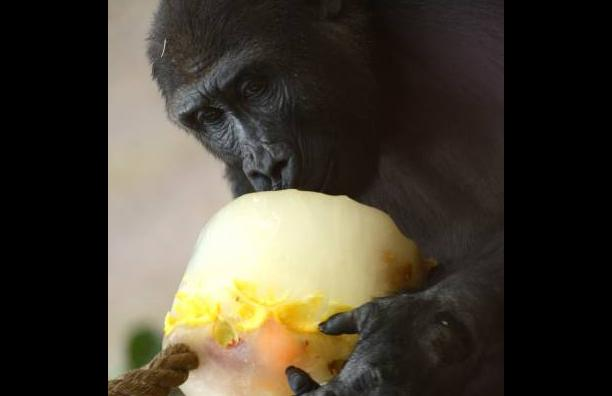gorille_Autres: (114, 0, 504, 214)
